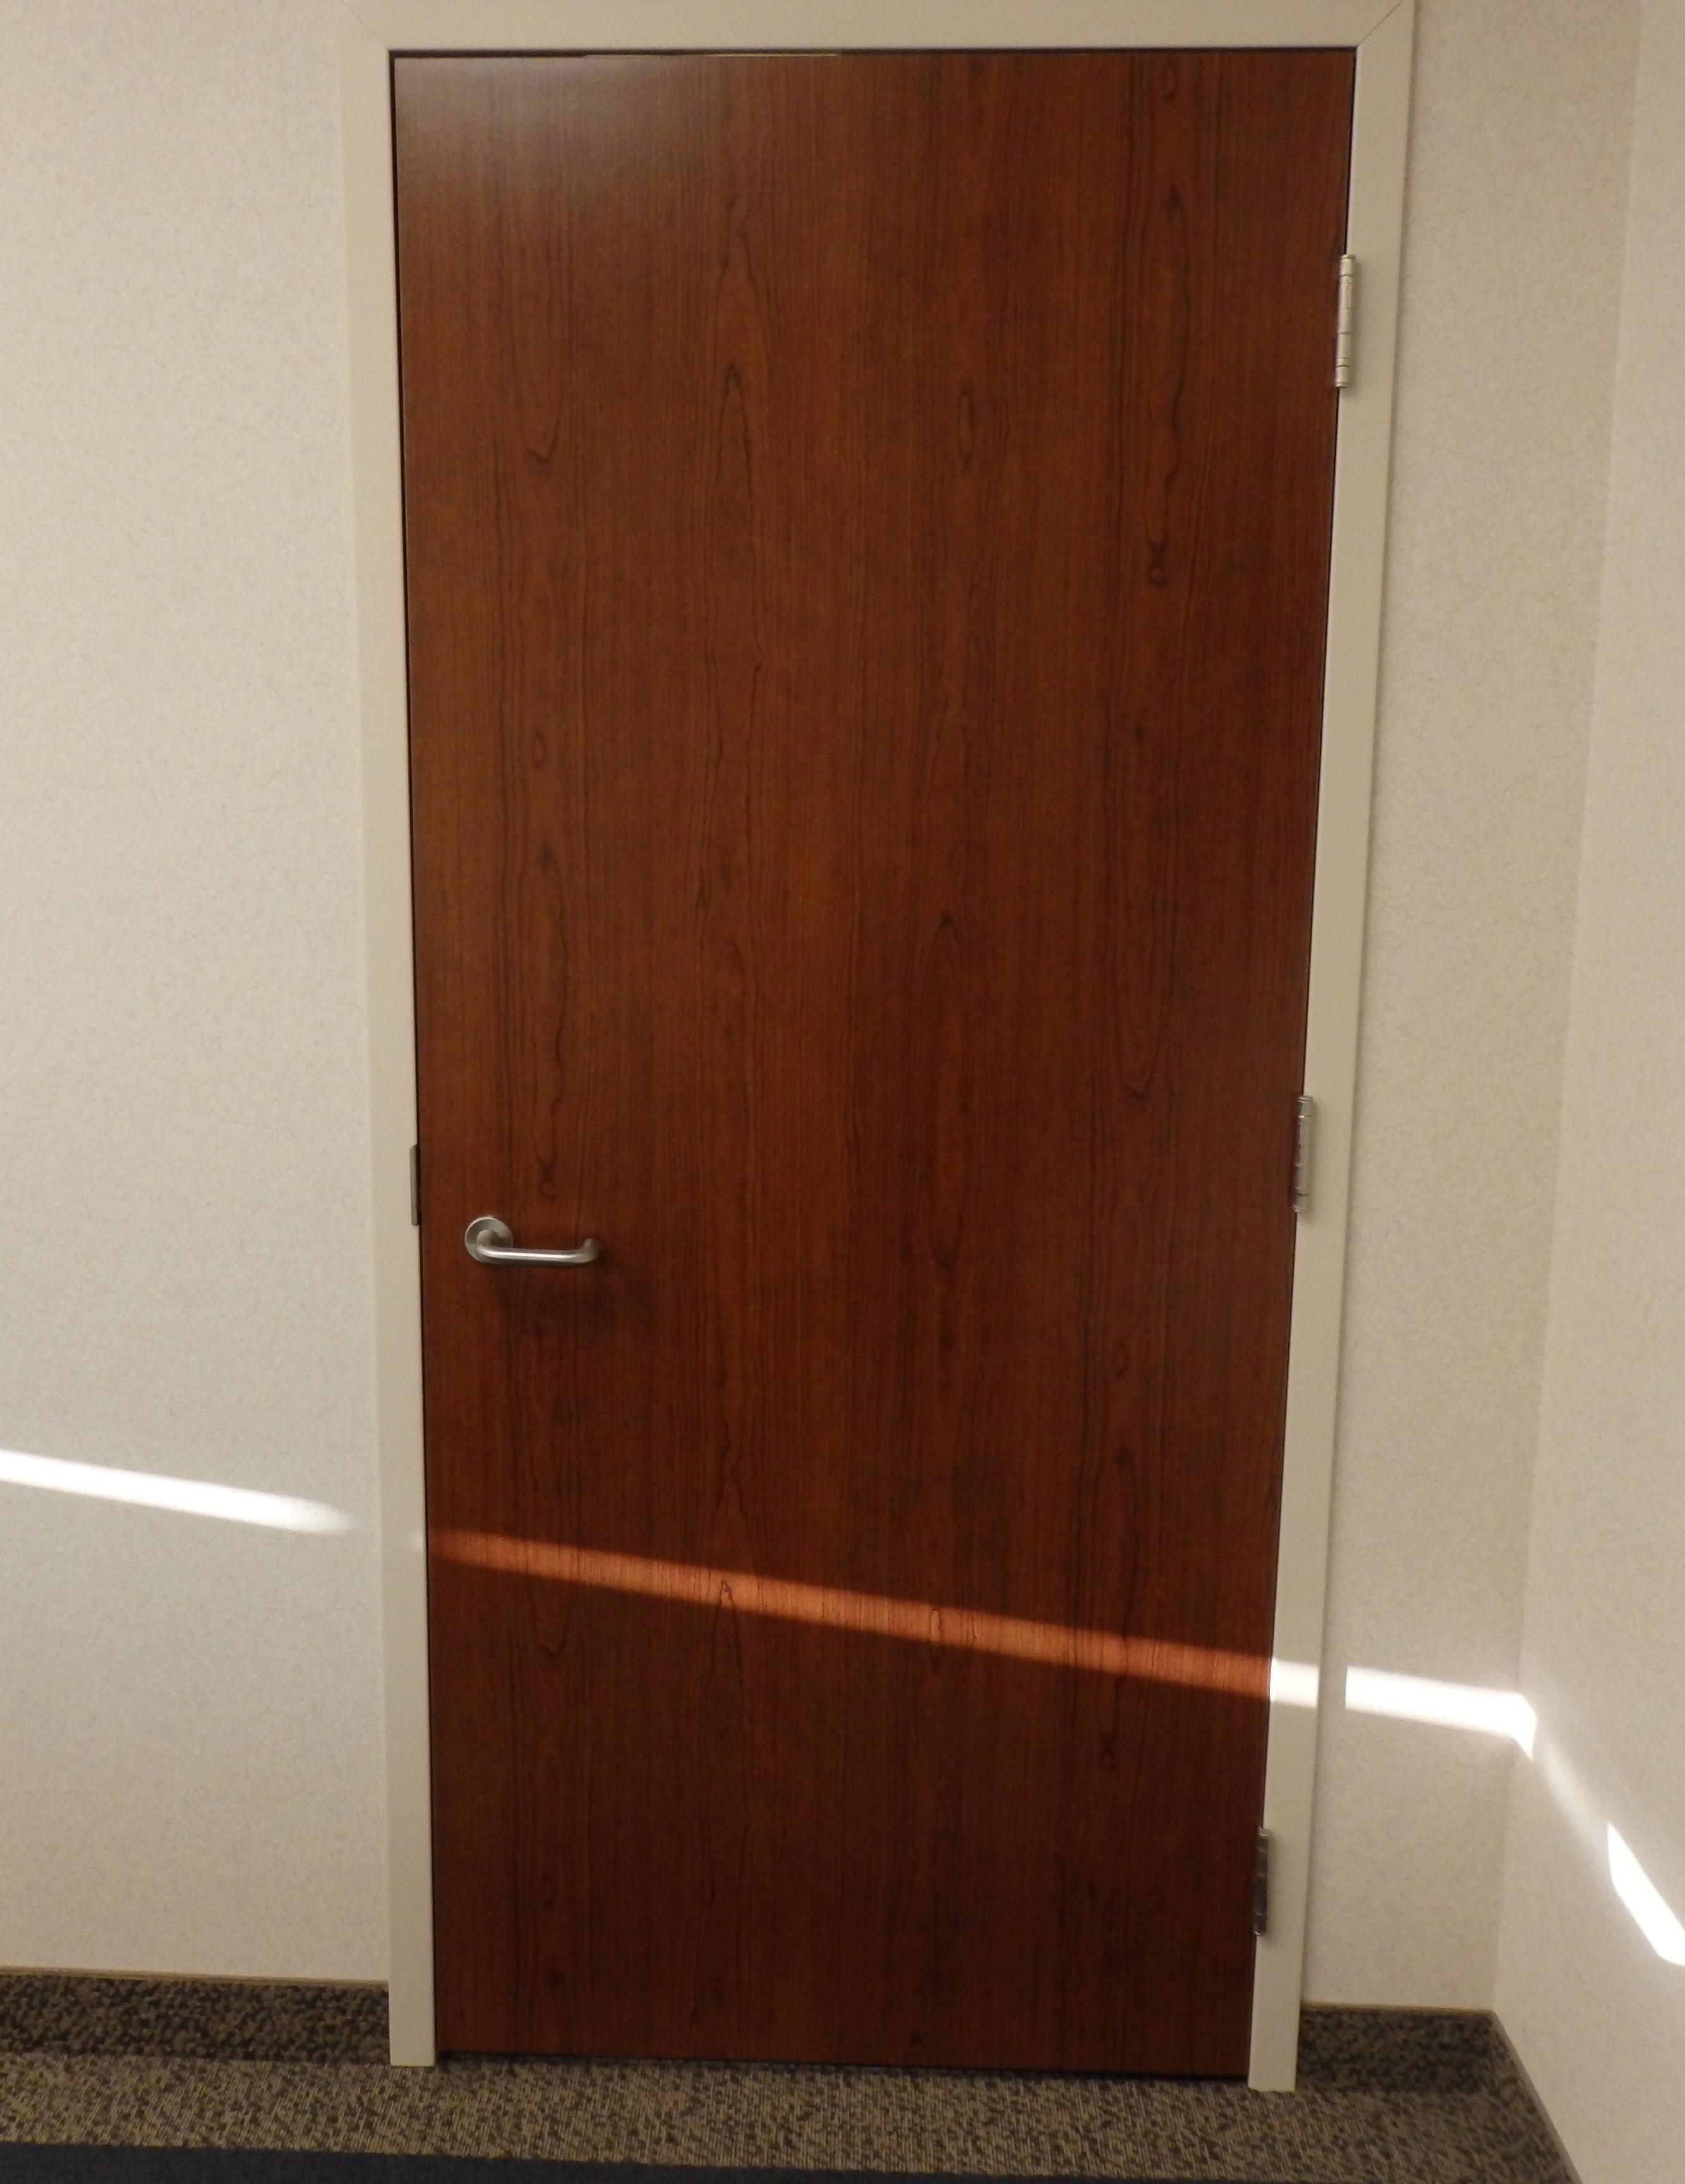door: (402, 27, 1363, 2058)
